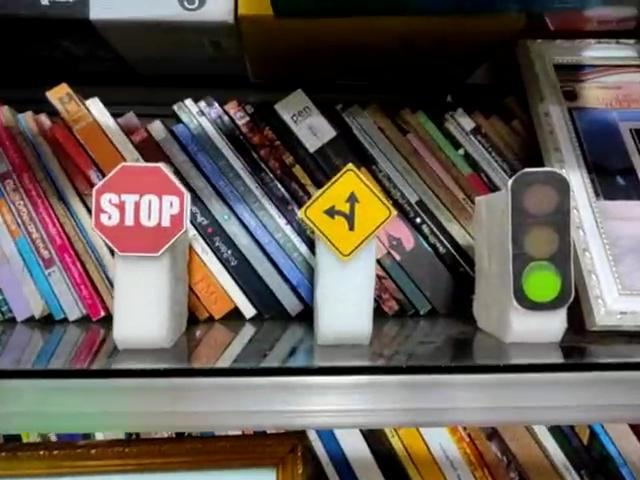Green Traffic Light: (507, 166, 578, 313)
Stop Sign: (92, 164, 191, 259)
Straight Or Left Sign: (301, 165, 396, 259)
